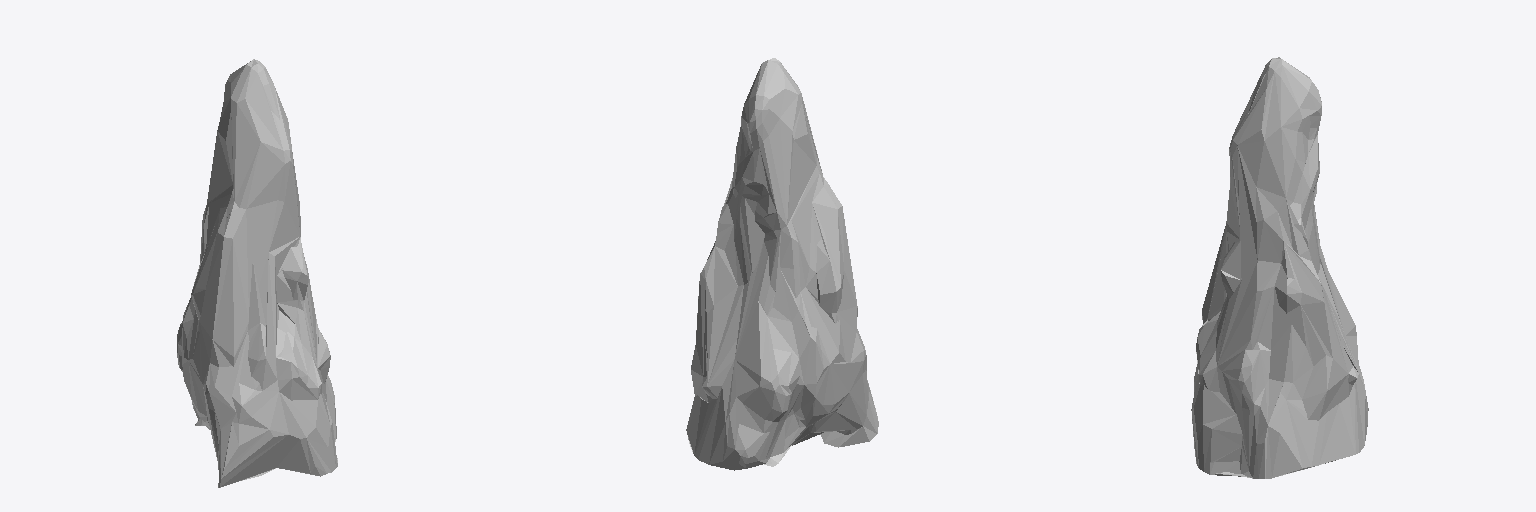
Rendered from largemound.obj.
3 views of the same model, side by side, from view 1: azimuth 30°, elevation 25°; view 2: azimuth 150°, elevation 25°; view 3: azimuth 270°, elevation 25° (orthographic).
Visible parts, largest first — view 1: Cube_Cube.001; view 2: Cube_Cube.001; view 3: Cube_Cube.001.
Boxes of the visible parts, box(x1,y1,x2,y2) form: Cube_Cube.001: box(177, 59, 337, 487); Cube_Cube.001: box(686, 58, 878, 470); Cube_Cube.001: box(1191, 57, 1368, 478).
Size of the model in its own units: 5.11 by 13.11 by 5.35.